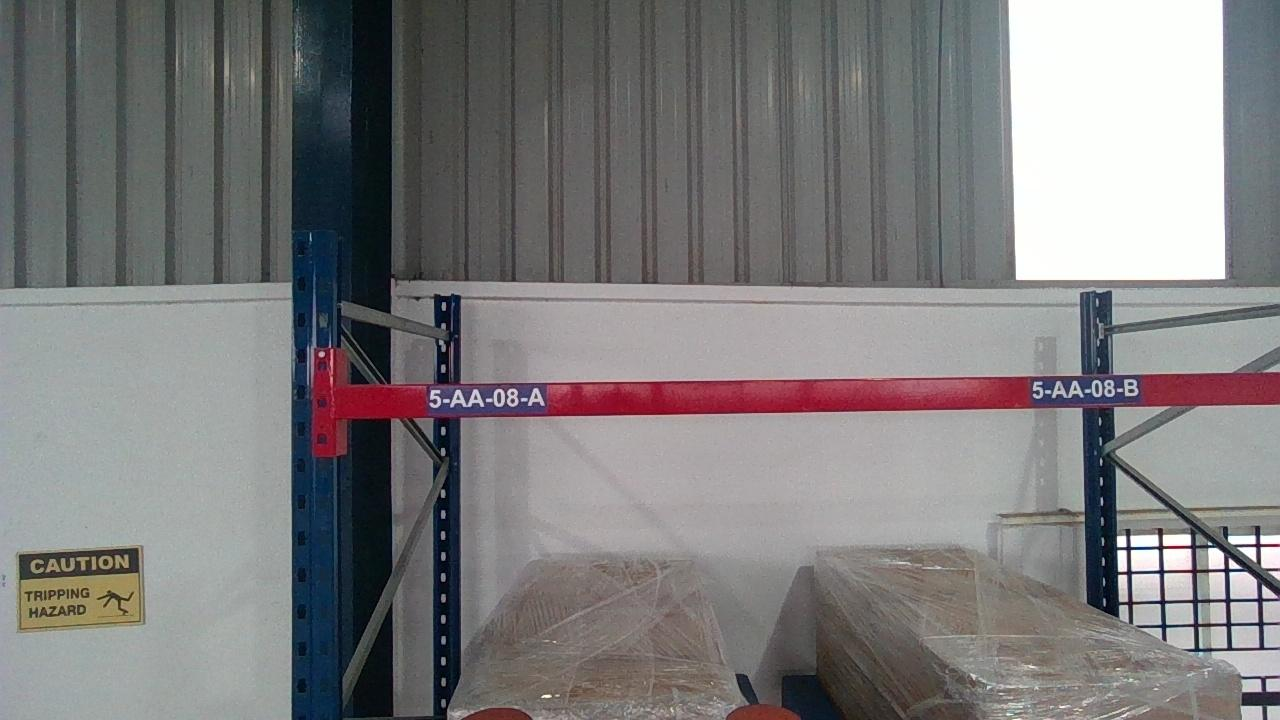h_rack: (334, 386, 1280, 406)
